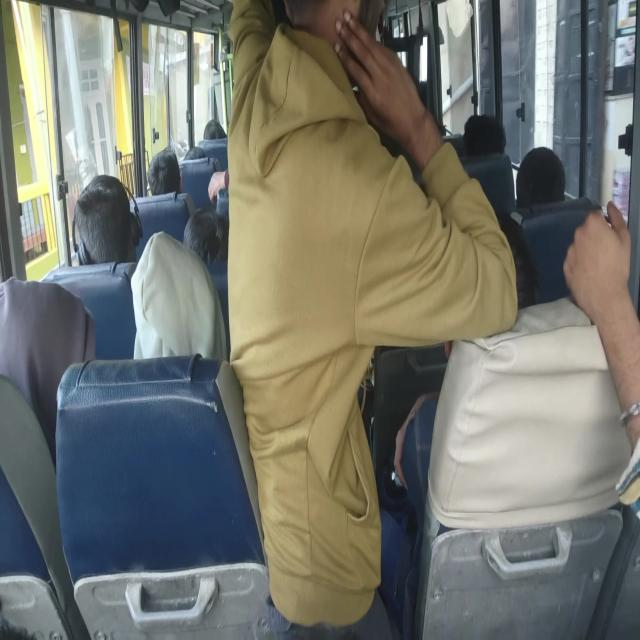person: (230, 6, 404, 340), (129, 246, 225, 370), (446, 217, 541, 334), (0, 308, 95, 407), (68, 185, 138, 264), (512, 150, 568, 219), (174, 209, 234, 261), (462, 108, 510, 170), (142, 152, 192, 201), (181, 150, 211, 169), (203, 120, 226, 142)
